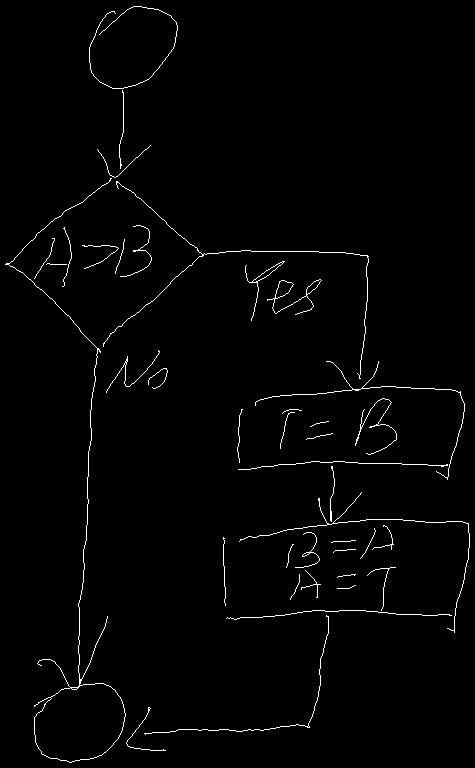arrow: (126, 615, 328, 750), (204, 250, 378, 390), (37, 348, 107, 689), (97, 90, 150, 177), (318, 466, 361, 524)
connection: (89, 6, 177, 88), (34, 683, 125, 762)
decision: (5, 178, 203, 352)
process: (223, 519, 469, 632), (237, 386, 464, 479)
text: (286, 525, 395, 610), (34, 225, 151, 286), (280, 398, 396, 454), (245, 261, 321, 320), (106, 350, 167, 392)
